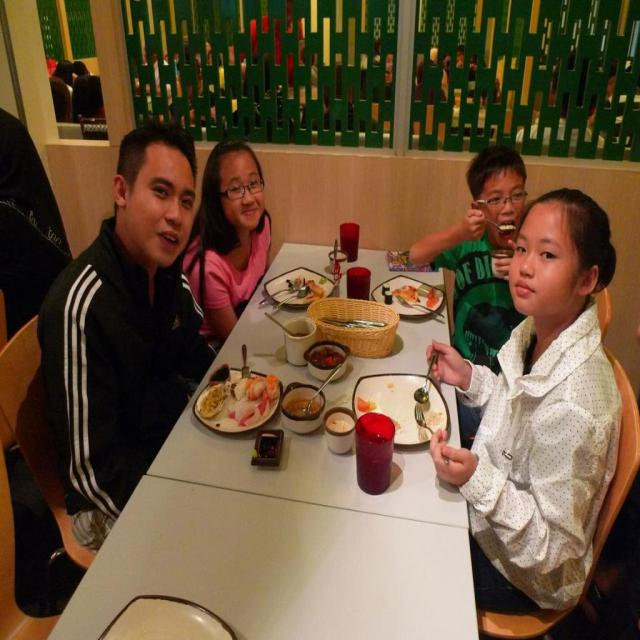Table: (41, 234, 476, 638), (47, 472, 479, 639)
